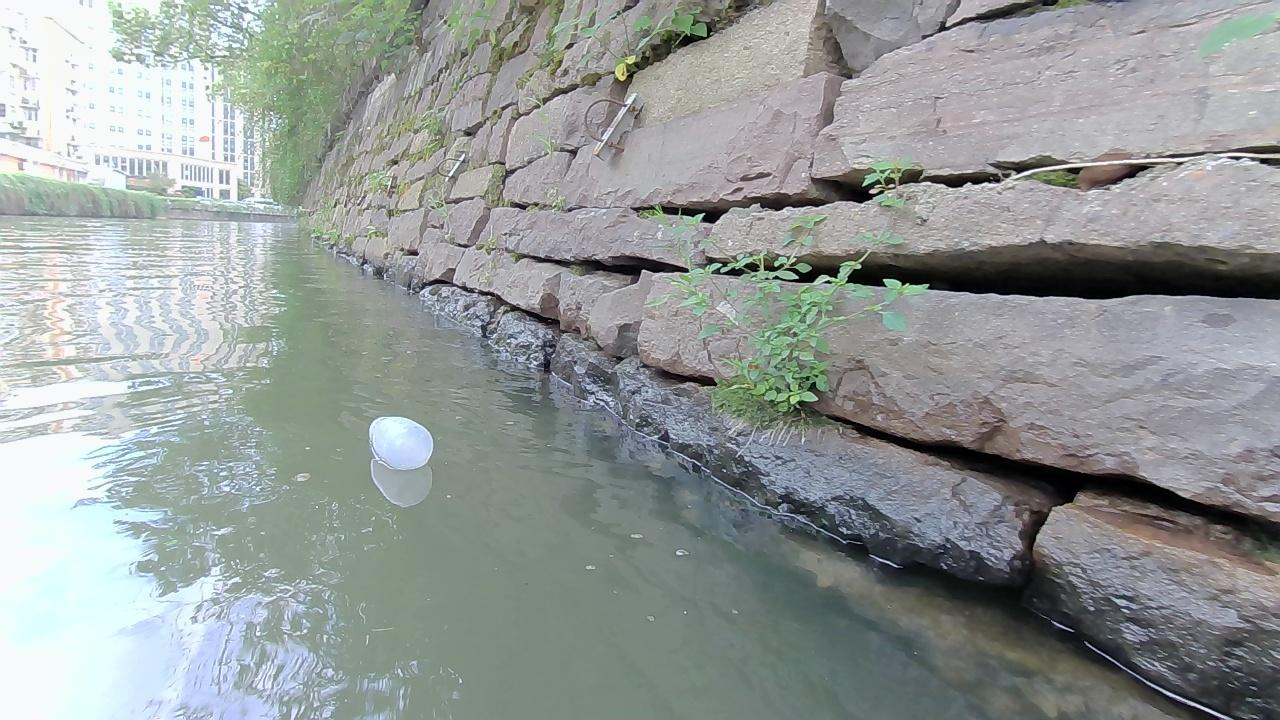bottle: (366, 414, 433, 468)
